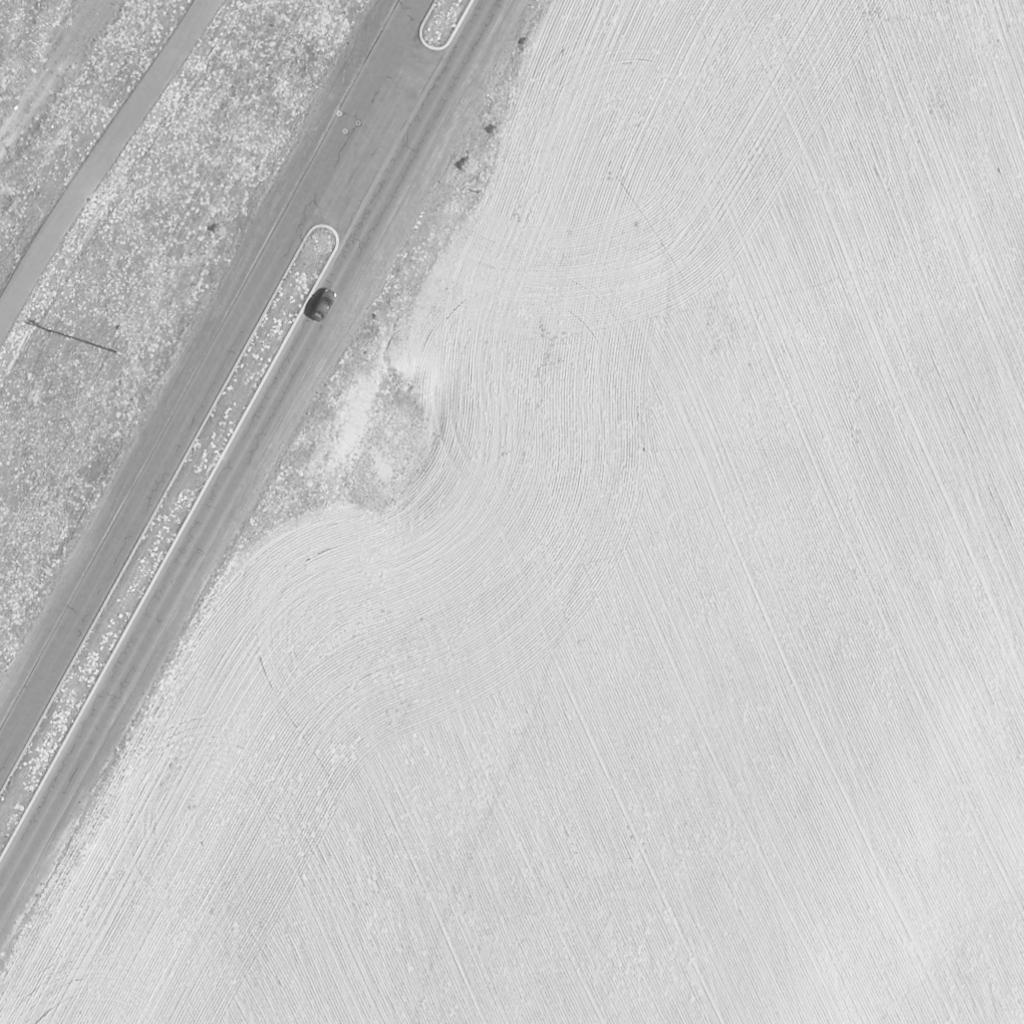vehicle: (310, 289, 338, 323)
